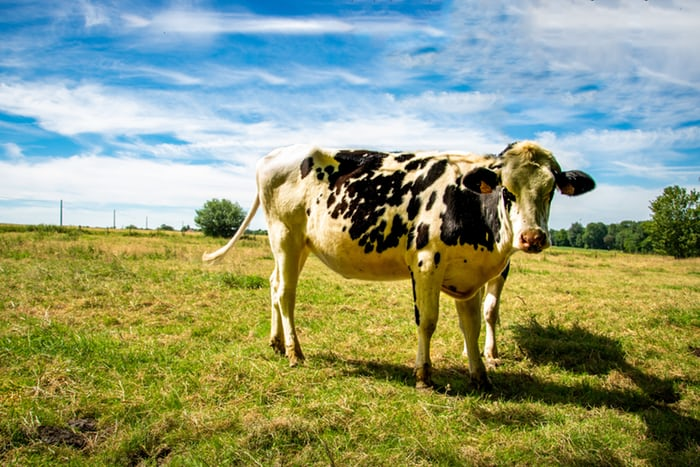nontarget: (213, 100, 571, 392)
